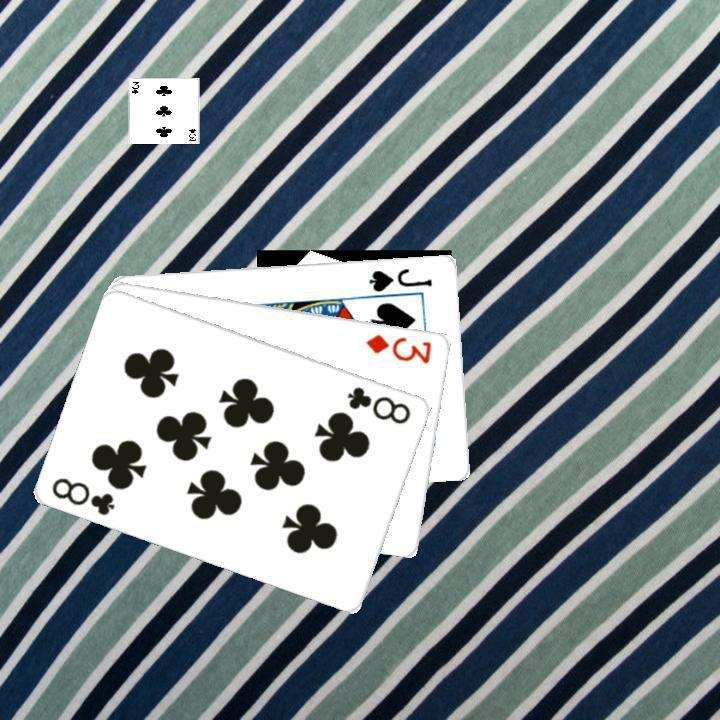3: (361, 329, 434, 366)
8: (48, 473, 118, 518), (343, 382, 414, 426)
J: (365, 263, 434, 293)
